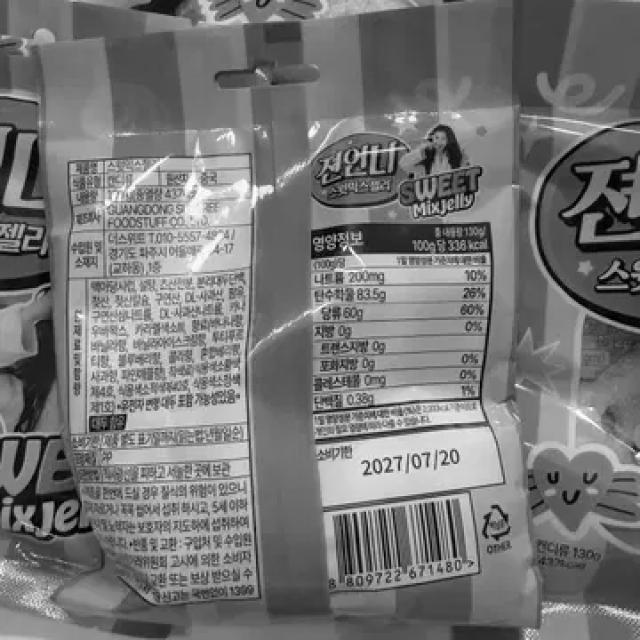Nutrition Label: (307, 219, 493, 427)
